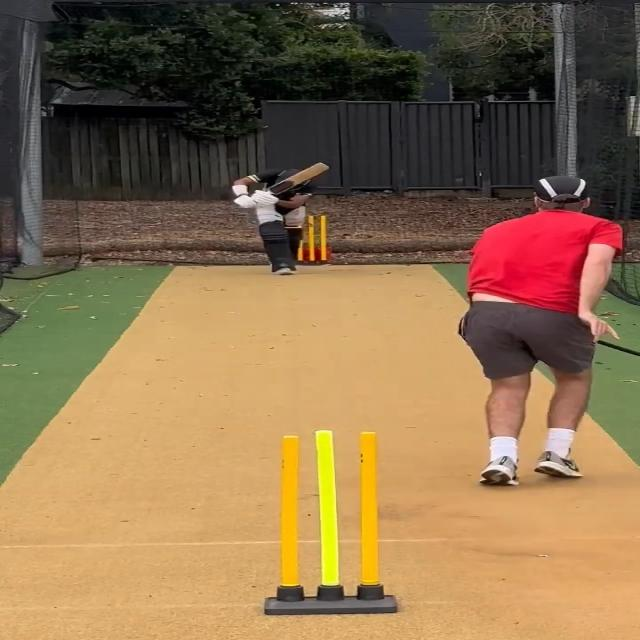stump: (262, 429, 394, 616), (298, 214, 327, 267)
